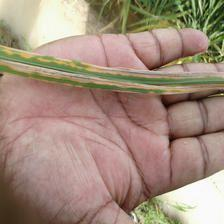2 BacterialBlight: (6, 42, 222, 95)
